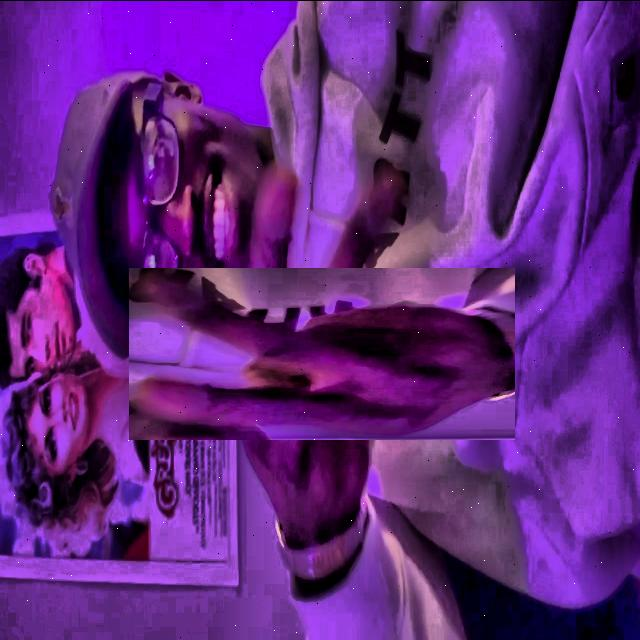not-gloved: (182, 213, 462, 492)
